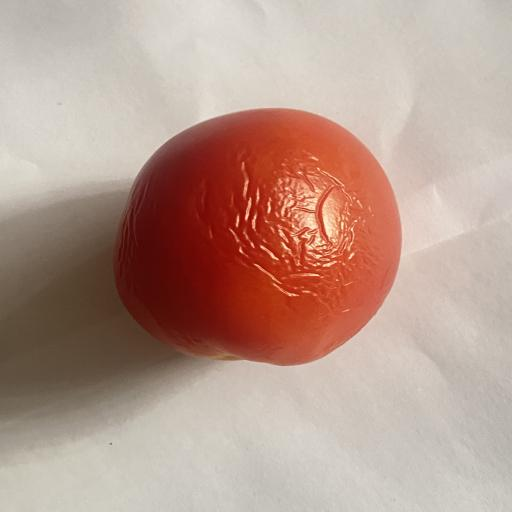spoiled: (114, 108, 401, 365)
